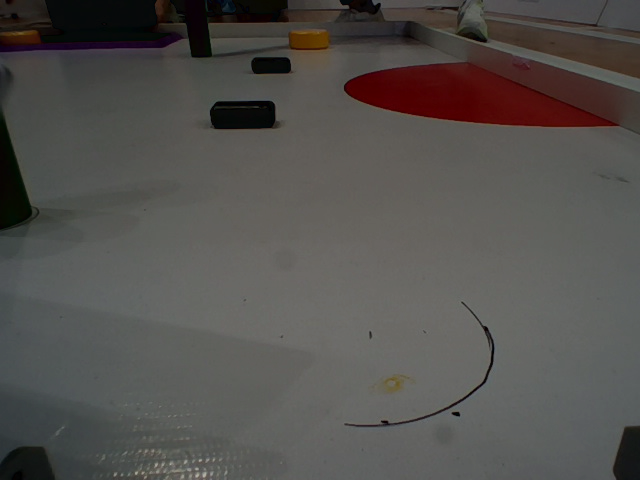black: (209, 99, 277, 129), (1, 29, 44, 48), (250, 56, 292, 73)
kuang: (1, 25, 187, 52)
yellow: (291, 29, 333, 52)
zhuzi: (181, 1, 214, 58)
